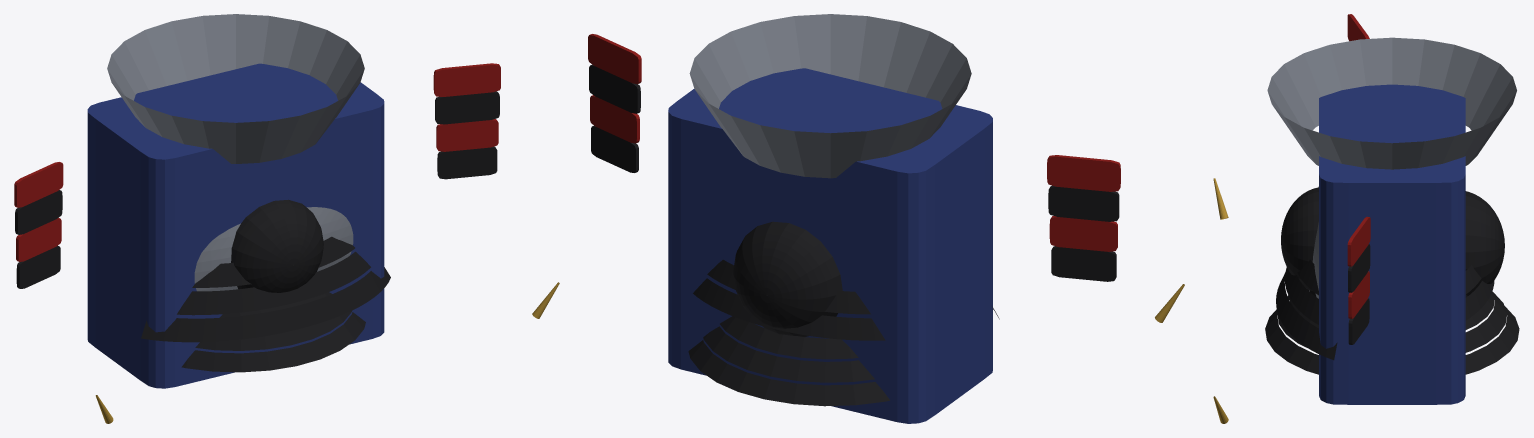
Rendered from japanese_roblox_baked.obj.
3 renders of one model, left to right at view 1: azimuth 30°, elevation 25°; view 2: azimuth 150°, elevation 25°; view 3: azimuth 270°, elevation 25°, orthographic. The views are drawn at different scales.
Visible parts, largest first — view 1: under_torso, gorget, poleyn_R, fauld_front_2, fauld_front_1, shikoro_2, cuirass_front, sode_0_R, shikoro_1, sode_1_R, sode_2_R, sode_3_R (+5 smaller); view 2: under_torso, gorget, couter_R, shikoro_2, shikoro_1, fauld_back_1, shikoro_0, sode_0_L, sode_1_L, sode_2_L, sode_3_L, sode_0_R (+4 smaller); view 3: under_torso, gorget, couter_R, shikoro_2, poleyn_R, fauld_front_2, shikoro_1, fauld_front_1, sode_0_R, fauld_back_1, sode_1_R, sode_2_R (+5 smaller).
Boxes of the visible parts, bbox=[...] form: under_torso: bbox=[87, 63, 384, 388]; gorget: bbox=[107, 14, 364, 163]; poleyn_R: bbox=[231, 199, 323, 292]; fauld_front_2: bbox=[141, 267, 390, 342]; fauld_front_1: bbox=[177, 251, 370, 315]; shikoro_2: bbox=[181, 312, 365, 372]; cuirass_front: bbox=[194, 207, 353, 291]; sode_0_R: bbox=[433, 63, 500, 96]; shikoro_1: bbox=[195, 311, 351, 350]; sode_1_R: bbox=[435, 91, 499, 124]; sode_2_R: bbox=[436, 119, 498, 151]; sode_3_R: bbox=[437, 146, 497, 179]; under_torso: bbox=[668, 68, 992, 423]; gorget: bbox=[689, 14, 971, 178]; couter_R: bbox=[733, 221, 842, 336]; shikoro_2: bbox=[688, 340, 889, 406]; shikoro_1: bbox=[703, 326, 874, 382]; fauld_back_1: bbox=[693, 278, 885, 340]; shikoro_0: bbox=[720, 316, 858, 359]; sode_0_L: bbox=[1047, 155, 1120, 191]; sode_1_L: bbox=[1048, 185, 1119, 221]; sode_2_L: bbox=[1049, 216, 1117, 251]; sode_3_L: bbox=[1051, 246, 1116, 281]; sode_0_R: bbox=[588, 34, 641, 84]; under_torso: bbox=[1319, 84, 1465, 404]; gorget: bbox=[1267, 37, 1516, 169]; couter_R: bbox=[1465, 191, 1504, 295]; shikoro_2: bbox=[1265, 289, 1519, 374]; poleyn_R: bbox=[1281, 187, 1318, 290]; fauld_front_2: bbox=[1276, 273, 1337, 360]; shikoro_1: bbox=[1277, 292, 1507, 352]; fauld_front_1: bbox=[1284, 267, 1318, 324]; sode_0_R: bbox=[1347, 216, 1370, 266]; fauld_back_1: bbox=[1465, 281, 1494, 320]; sode_1_R: bbox=[1348, 244, 1370, 292]; sode_2_R: bbox=[1348, 271, 1369, 318].
Size of the model in its own units: 4.44 by 2.45 by 2.5.
